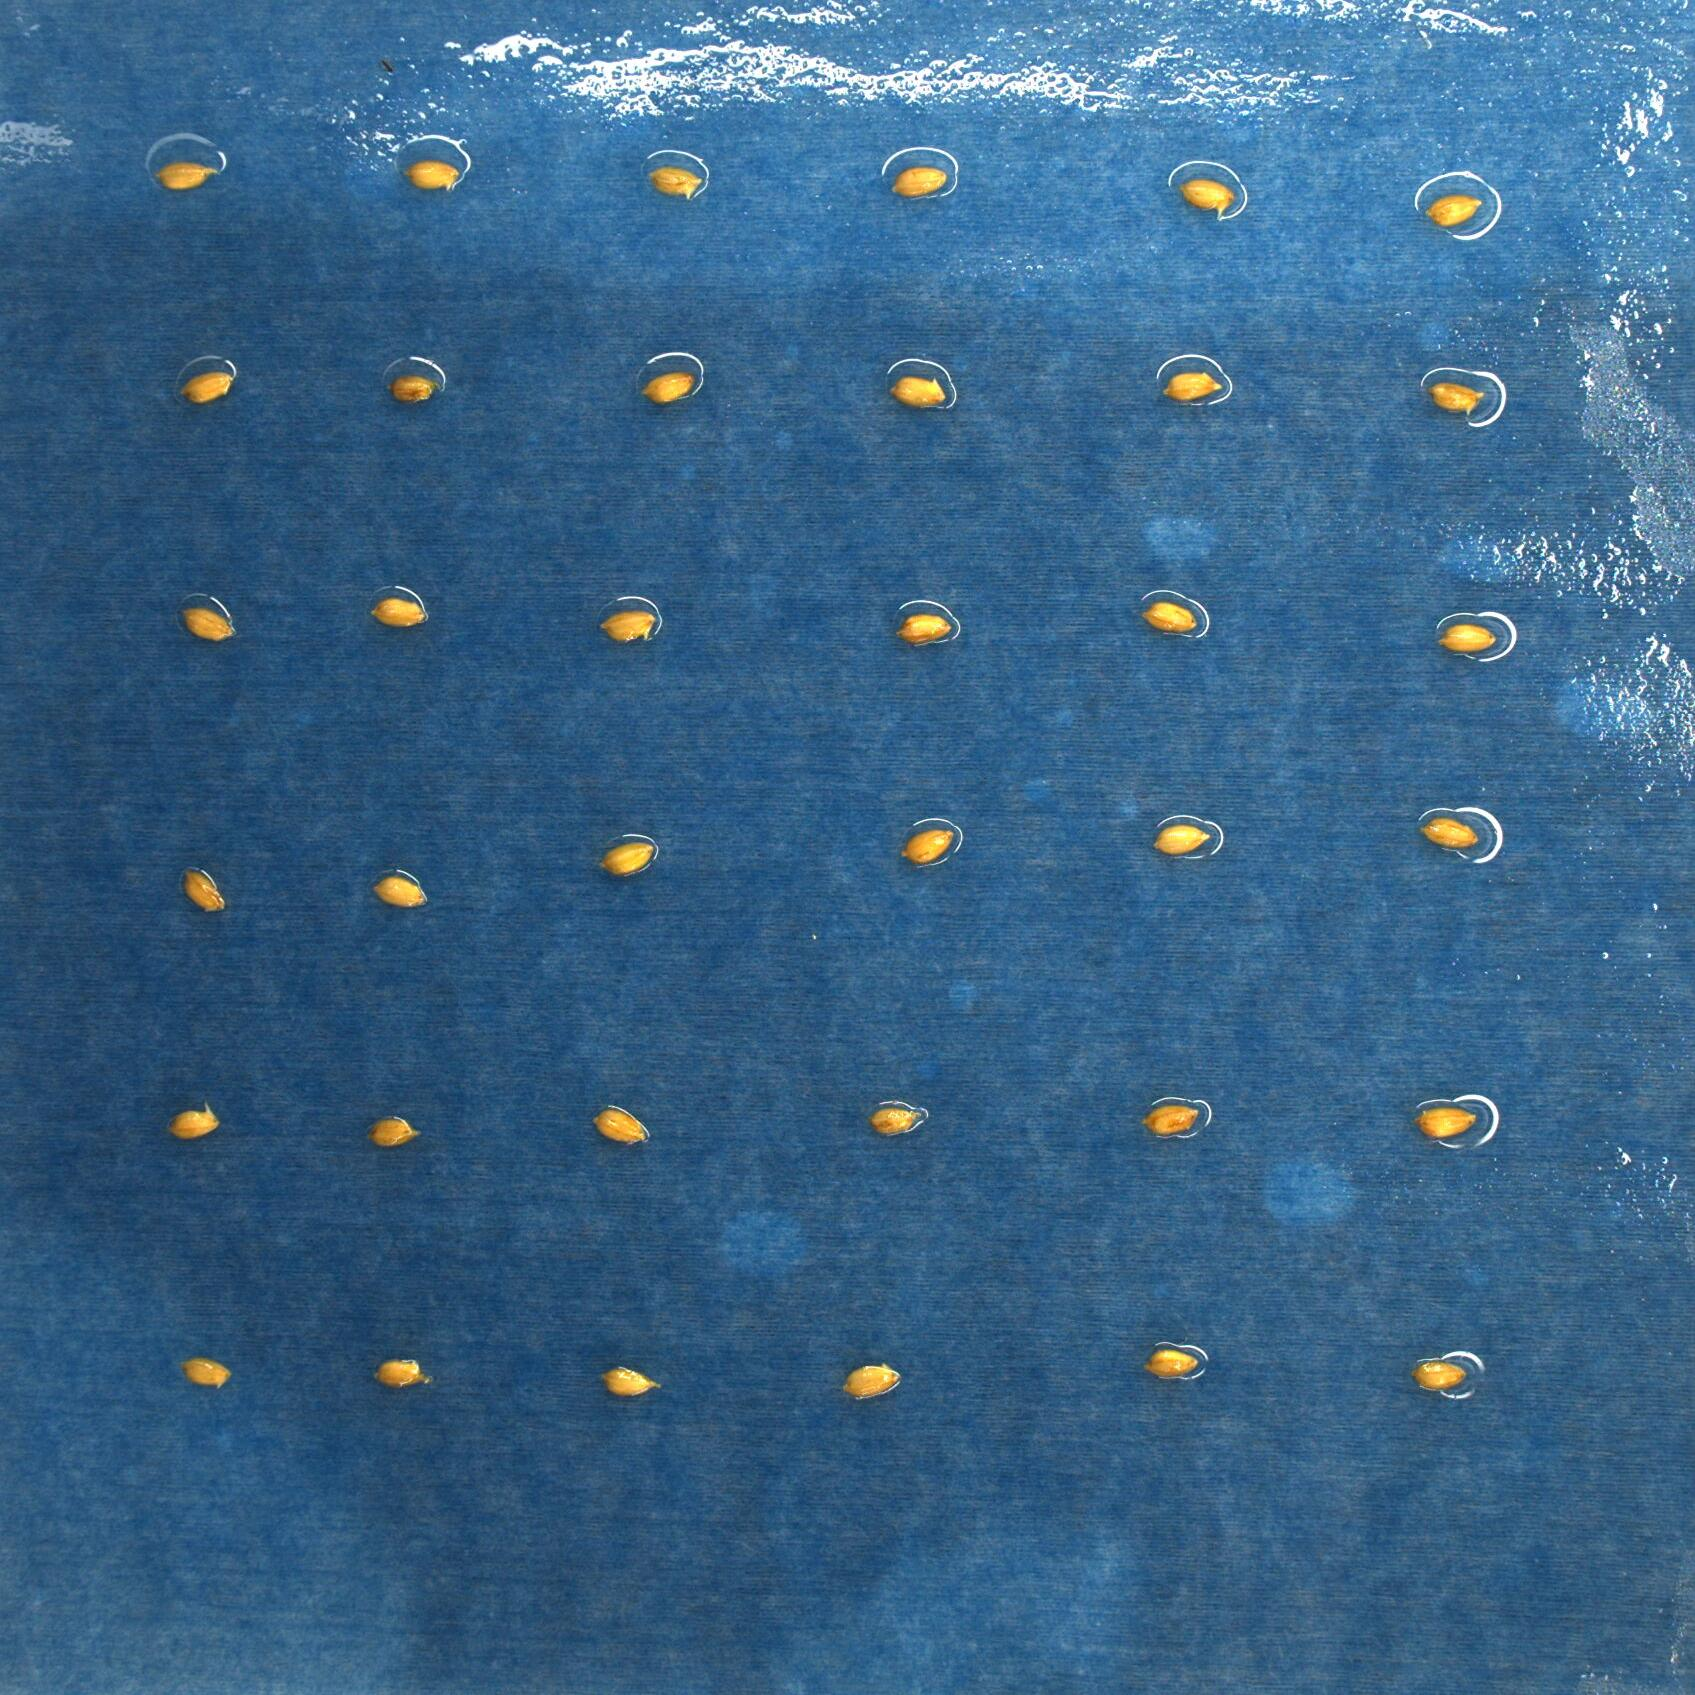not sprout: (593, 1105, 650, 1149), (840, 1364, 902, 1403), (155, 158, 217, 196), (1178, 179, 1237, 217), (1416, 1107, 1479, 1142), (599, 841, 657, 880), (900, 827, 955, 868), (889, 165, 951, 199), (640, 369, 698, 405), (179, 369, 234, 407), (182, 605, 234, 644), (599, 608, 658, 643), (1142, 599, 1201, 633), (1142, 1104, 1201, 1138), (871, 1104, 927, 1139), (1412, 1358, 1468, 1394), (646, 166, 703, 200), (888, 374, 945, 408), (185, 868, 227, 914), (1163, 371, 1222, 404), (1428, 383, 1487, 416), (1430, 194, 1482, 230), (166, 1104, 219, 1139), (1420, 816, 1478, 849), (1146, 1347, 1200, 1381), (376, 1360, 438, 1389), (601, 1366, 660, 1397), (1156, 823, 1212, 855), (1437, 624, 1498, 653), (366, 1114, 421, 1147), (373, 598, 428, 629), (182, 1357, 231, 1391), (900, 615, 955, 646), (376, 879, 428, 910), (407, 161, 459, 189), (386, 376, 439, 404)
